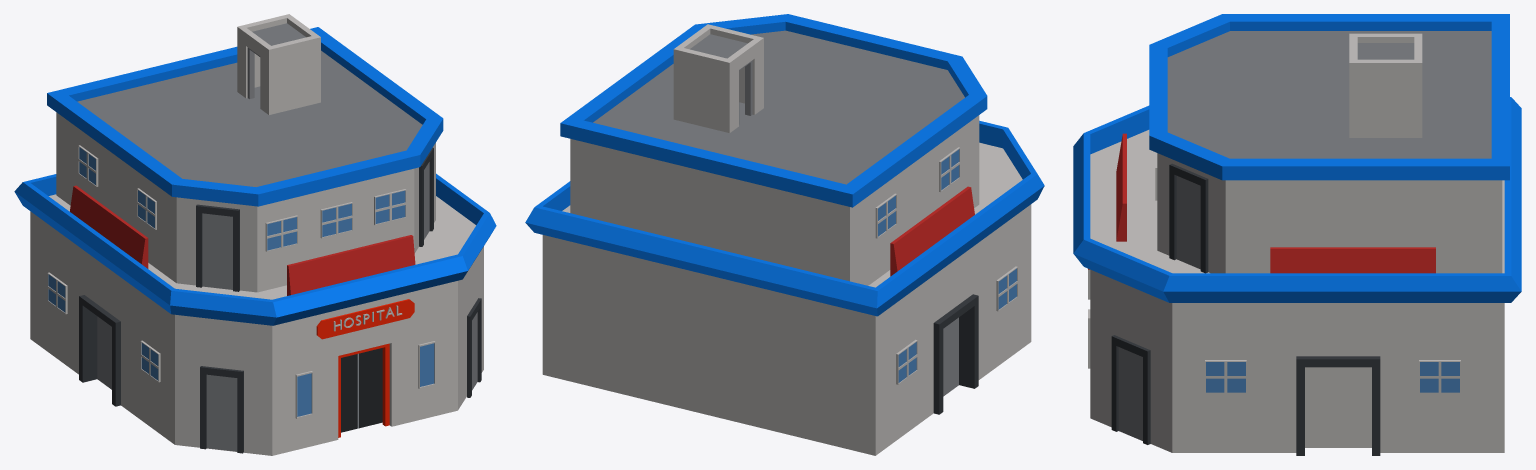
The model's file is Hospital_1.fbx.
3 renders of one model, left to right at view 1: azimuth 30°, elevation 25°; view 2: azimuth 150°, elevation 25°; view 3: azimuth 270°, elevation 25°, orthographic. The views are drawn at different scales.
Parts seen in each view (by area): view 1: Hospital_1; view 2: Hospital_1; view 3: Hospital_1.
Boxes of the visible parts, left/top/right/bottom form: Hospital_1: left=14, top=14, right=496, bottom=455; Hospital_1: left=525, top=14, right=1044, bottom=455; Hospital_1: left=1073, top=14, right=1521, bottom=455.
Size of the model in its own units: 1636 by 1422 by 1691.
